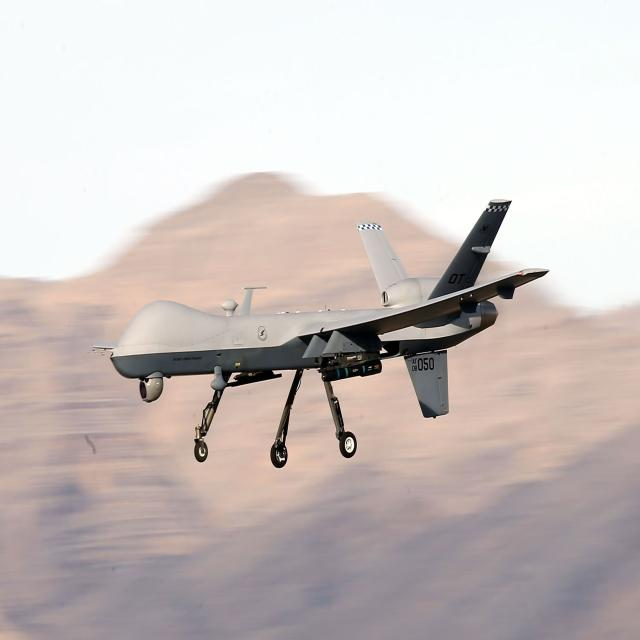MQ9: (83, 165, 569, 572)
